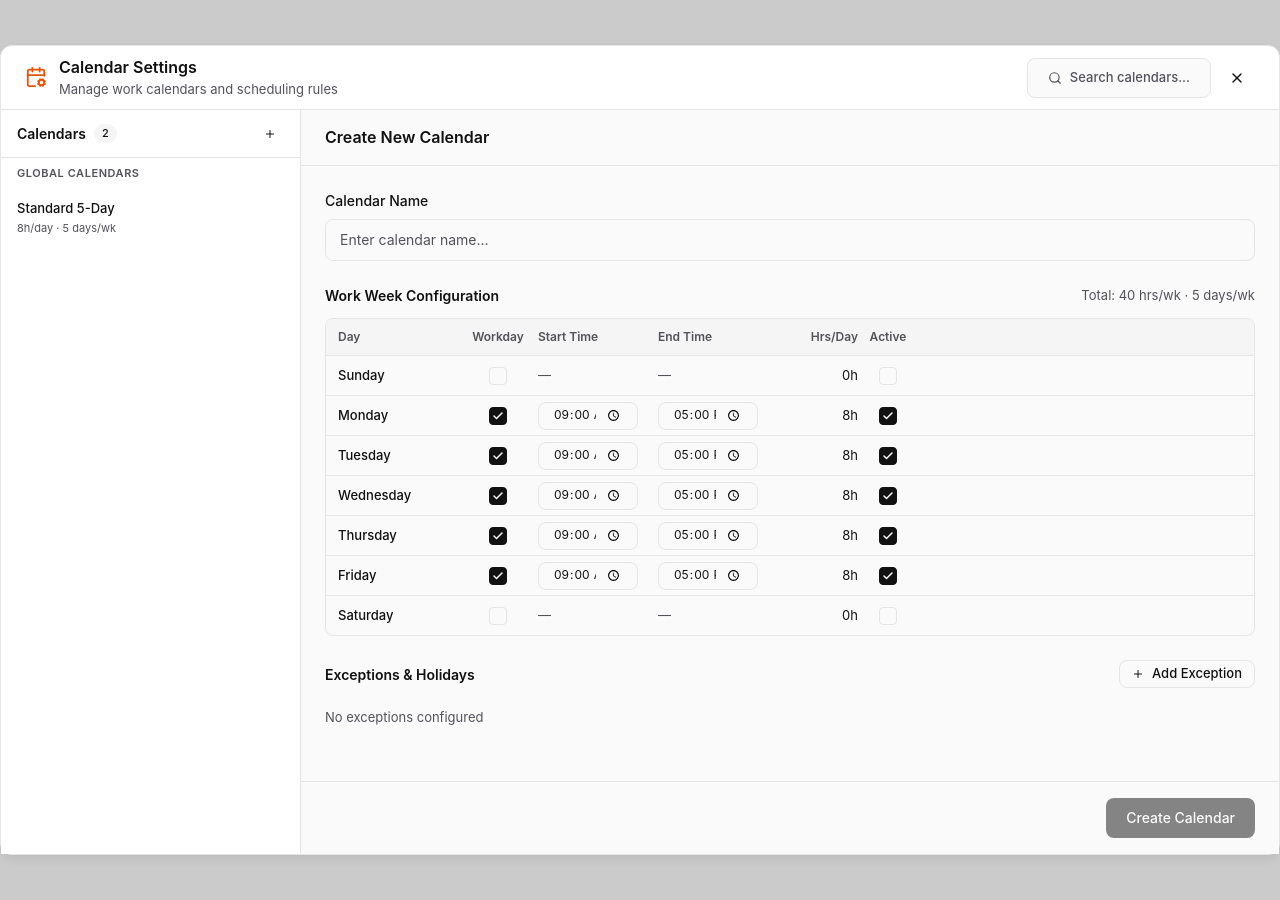
Scenario: Add calendar form (default right panel) › clicking Plus button returns to add form from detail view
Select a calendar first
What coordinates should you click on to do the following:
click the text "Standard 5-Day"
I would click on:
 (66, 209)
Its box is [17, 199, 115, 219].
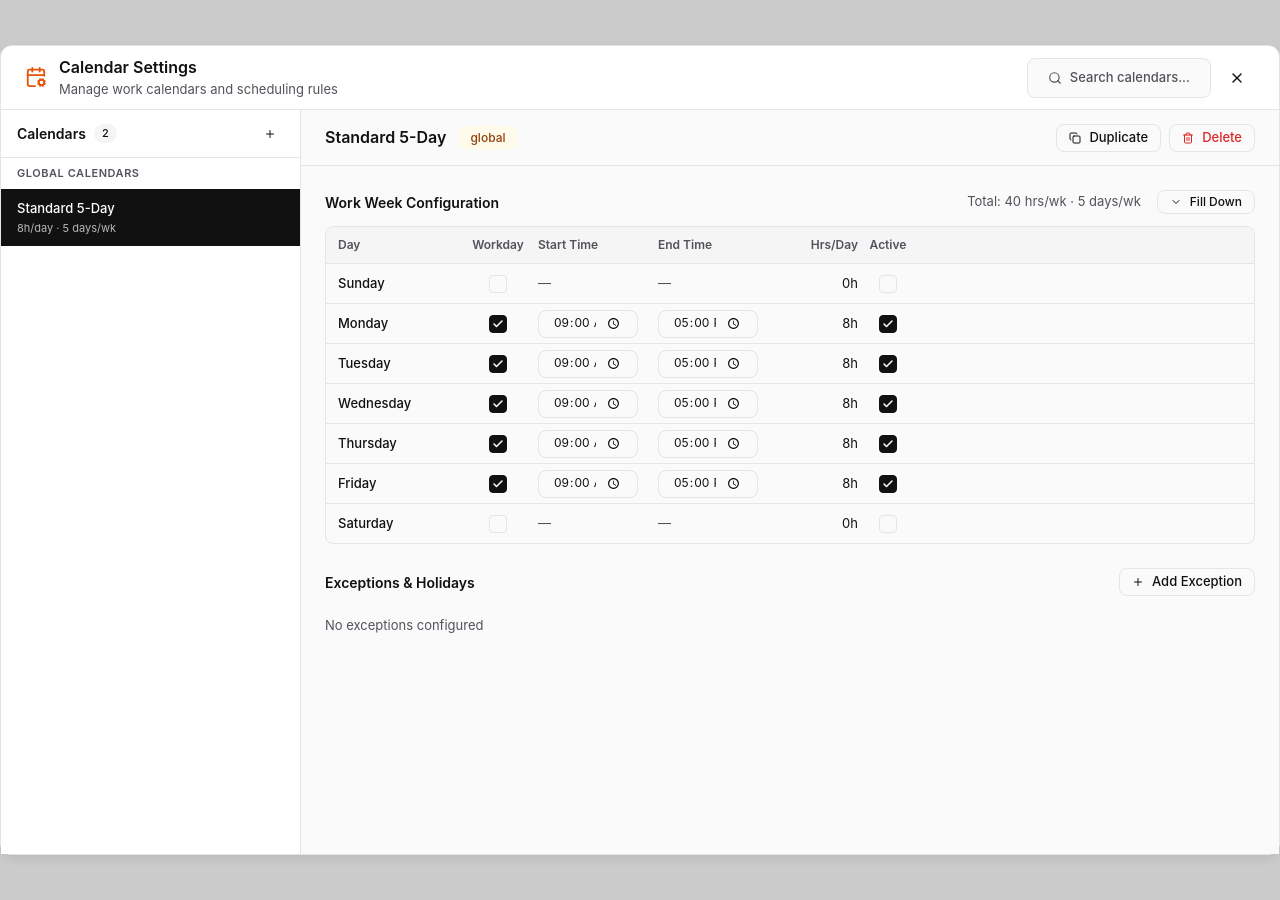
expect the text "Work Week Configuration" is shown: met, box [325, 192, 499, 212]
expect the text "Create New Calendar" is gone: met
Click Plus to return to add form
What coordinates should you click on to do the following:
click the button with test id "add-calendar-btn"
I would click on:
 (270, 134)
Its box is [256, 120, 284, 148].
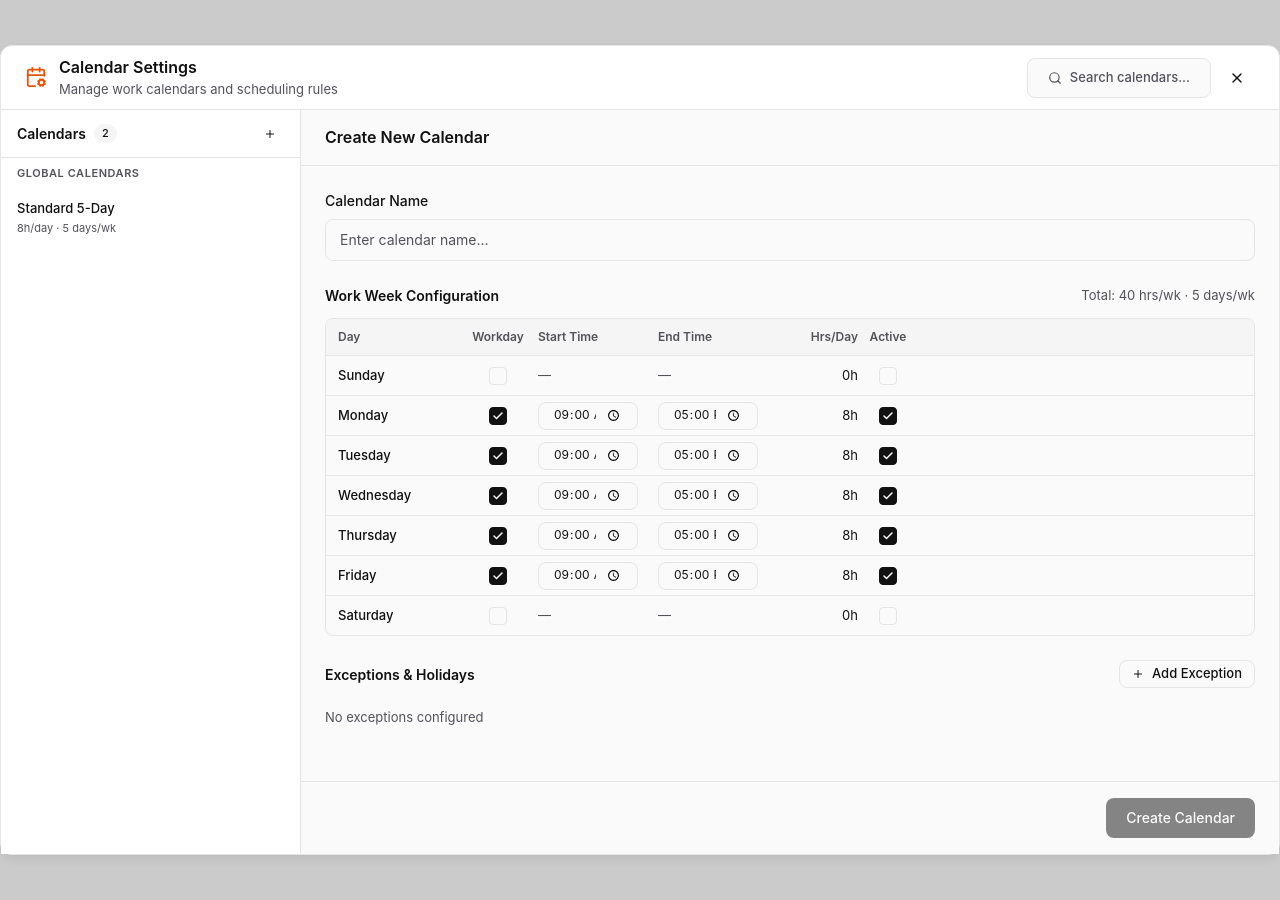
expect the text "Create New Calendar" is shown: met, box [325, 126, 489, 149]
